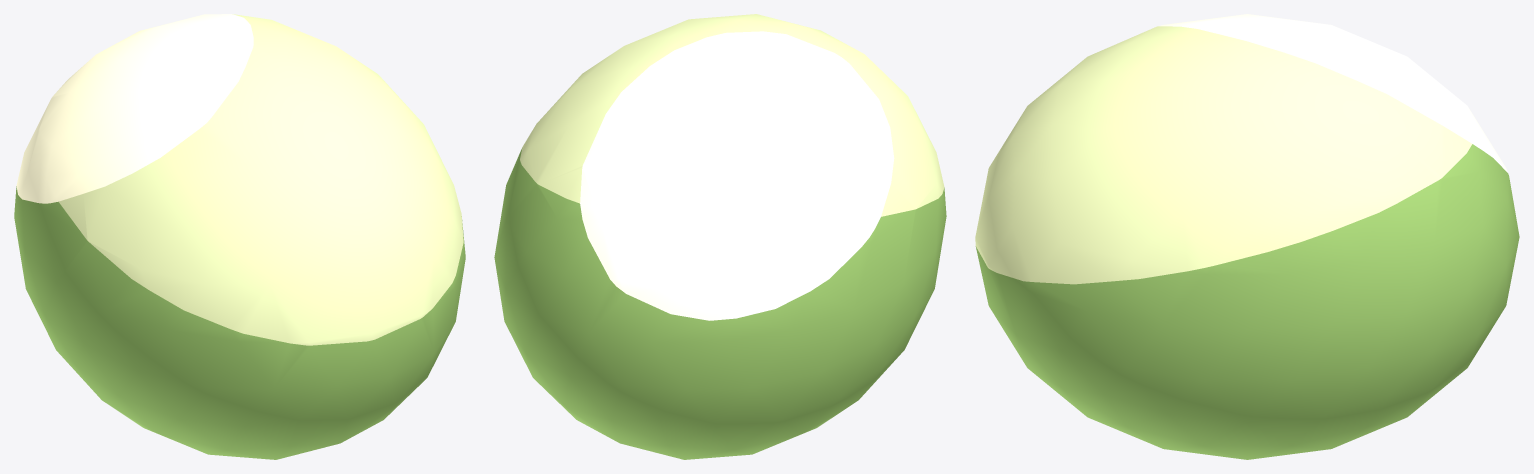
The model's file is green_grape_266.glb.
3 renders of one model, left to right at view 1: azimuth 30°, elevation 25°; view 2: azimuth 150°, elevation 25°; view 3: azimuth 270°, elevation 25°, orthographic. The views are drawn at different scales.
Visible parts, largest first — view 1: green_grape_266; view 2: green_grape_266; view 3: green_grape_266.
Boxes of the visible parts, box(x1,y1,x2,y2) form: green_grape_266: box(14, 14, 465, 459); green_grape_266: box(494, 14, 946, 459); green_grape_266: box(975, 14, 1519, 459).
Size of the model in its own units: 4.1 by 4.2 by 5.1.
